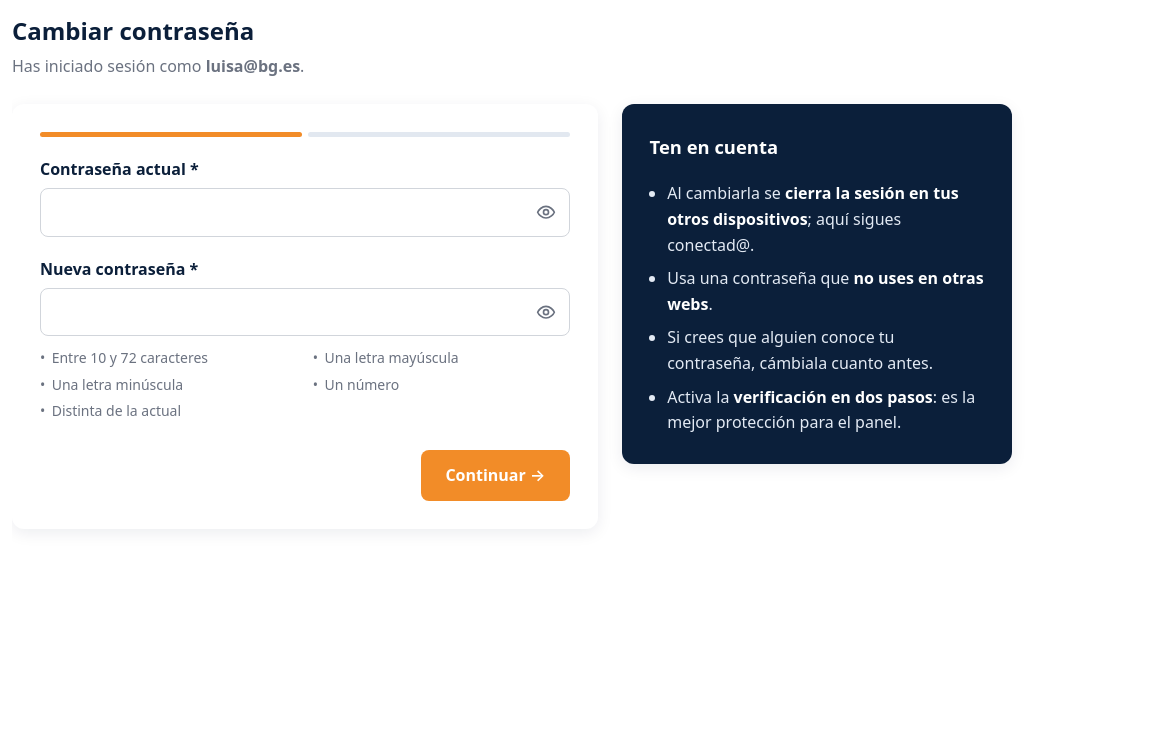
AdminAccountView › shows who is logged in and changes the password
Expected: the heading "Cambiar contraseña" is shown, [12,14,254,47]
Type "OldPass2026" into the password field with id "account-current".
click(305, 212); type("OldPass2026")  # box [40,188,570,237]
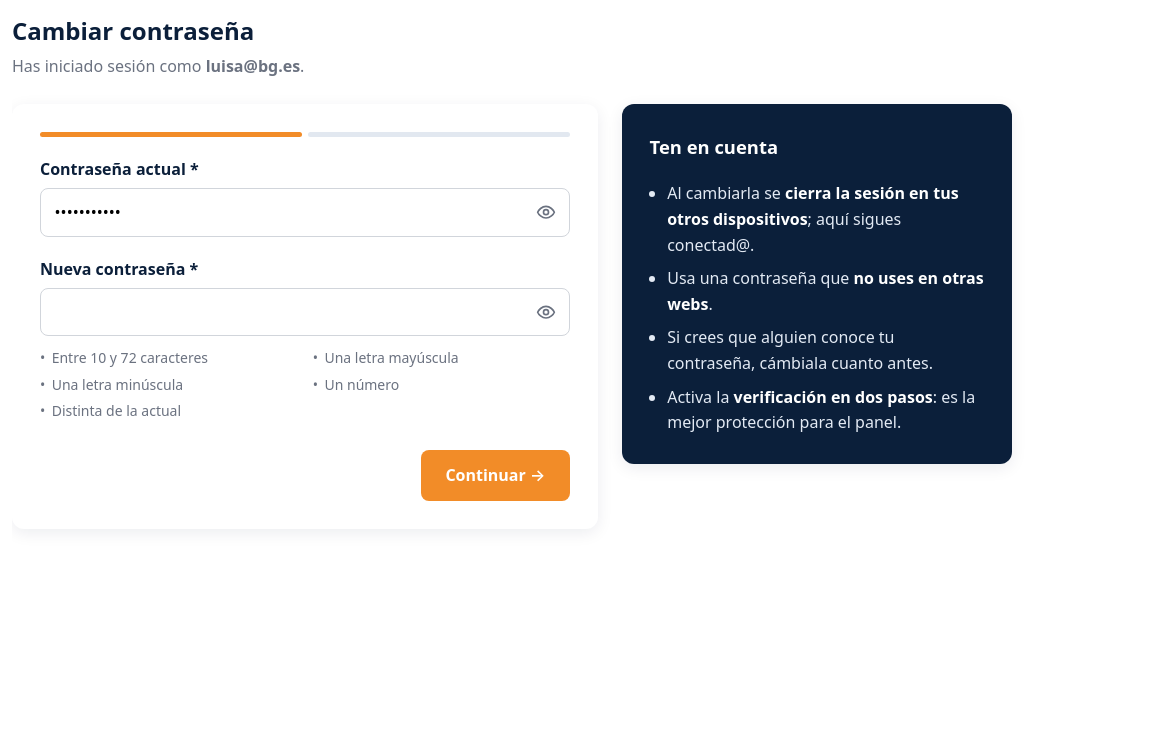
Type "NewPass2026" into the password field with id "account-new".
click(305, 312); type("NewPass2026")  # box [40,288,570,336]
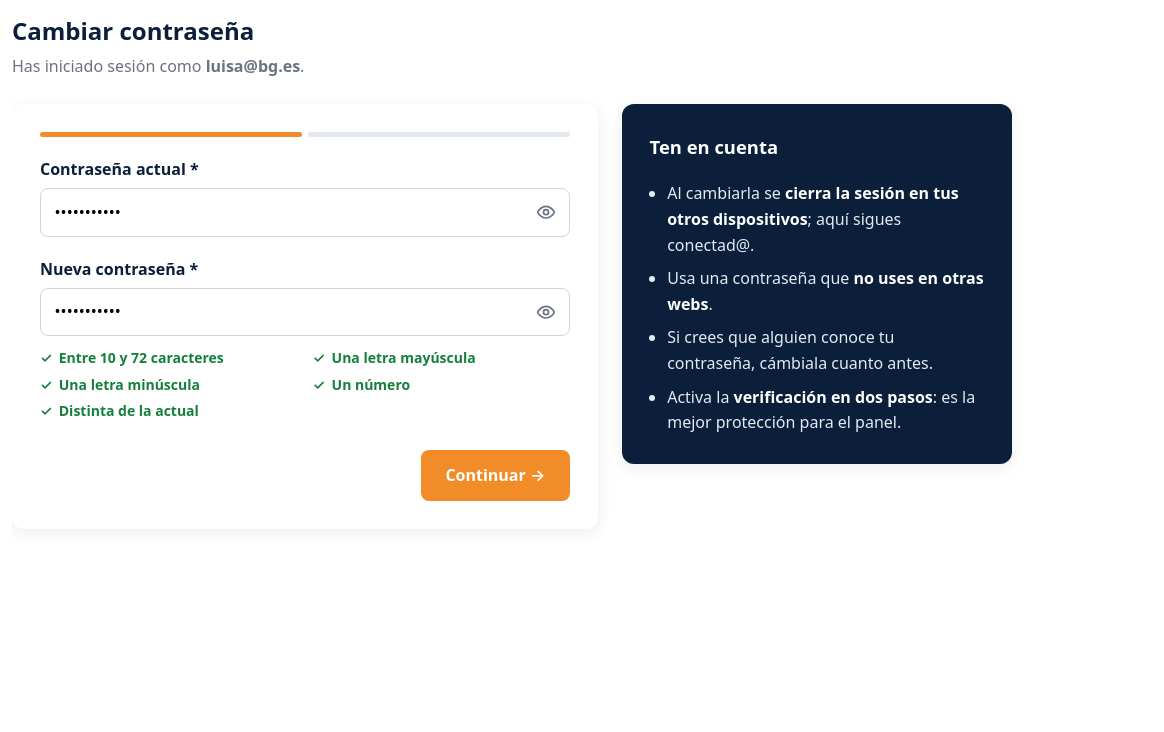
Submit the form, box [40,132,570,501]
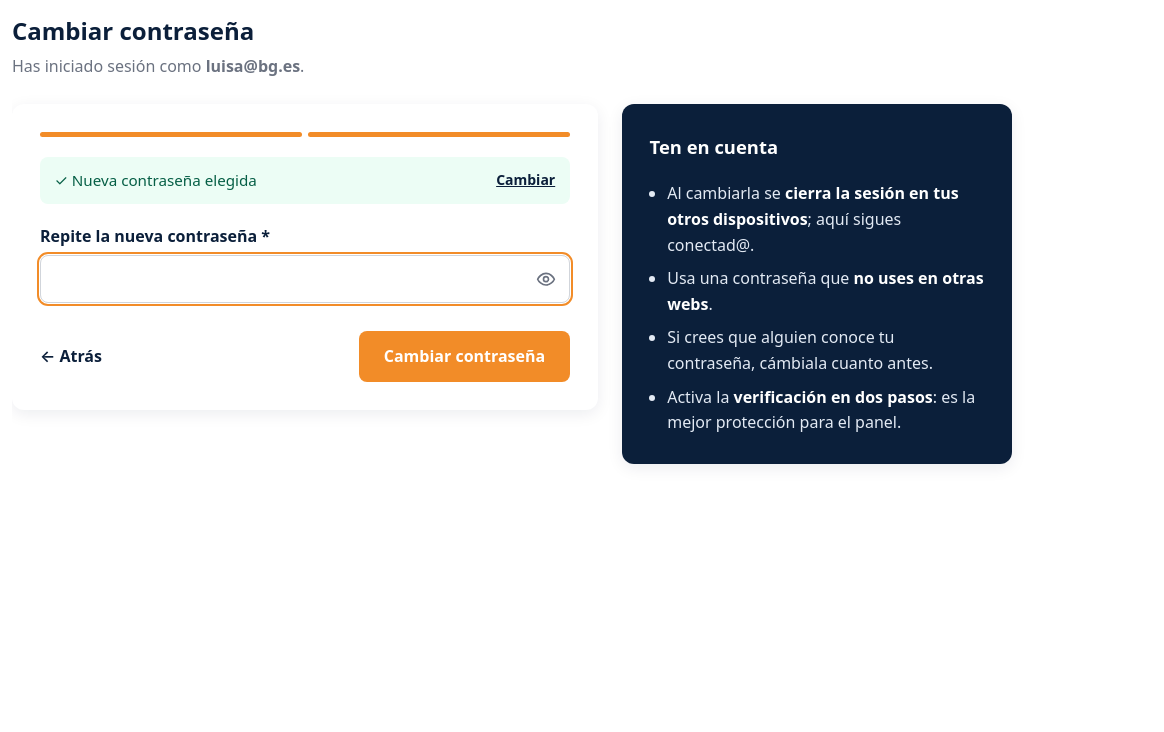
Type "NewPass2026" into the password field with id "account-confirm".
click(305, 279); type("NewPass2026")  # box [40,255,570,303]
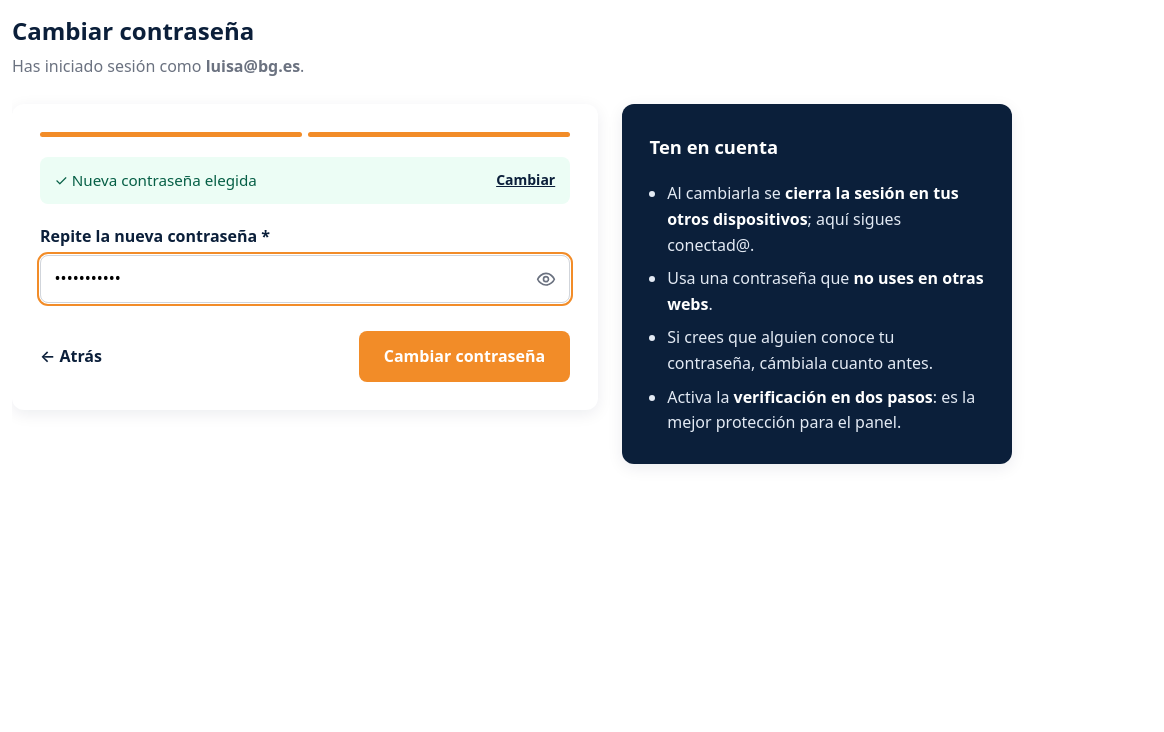
Submit the form, box [40,132,570,382]
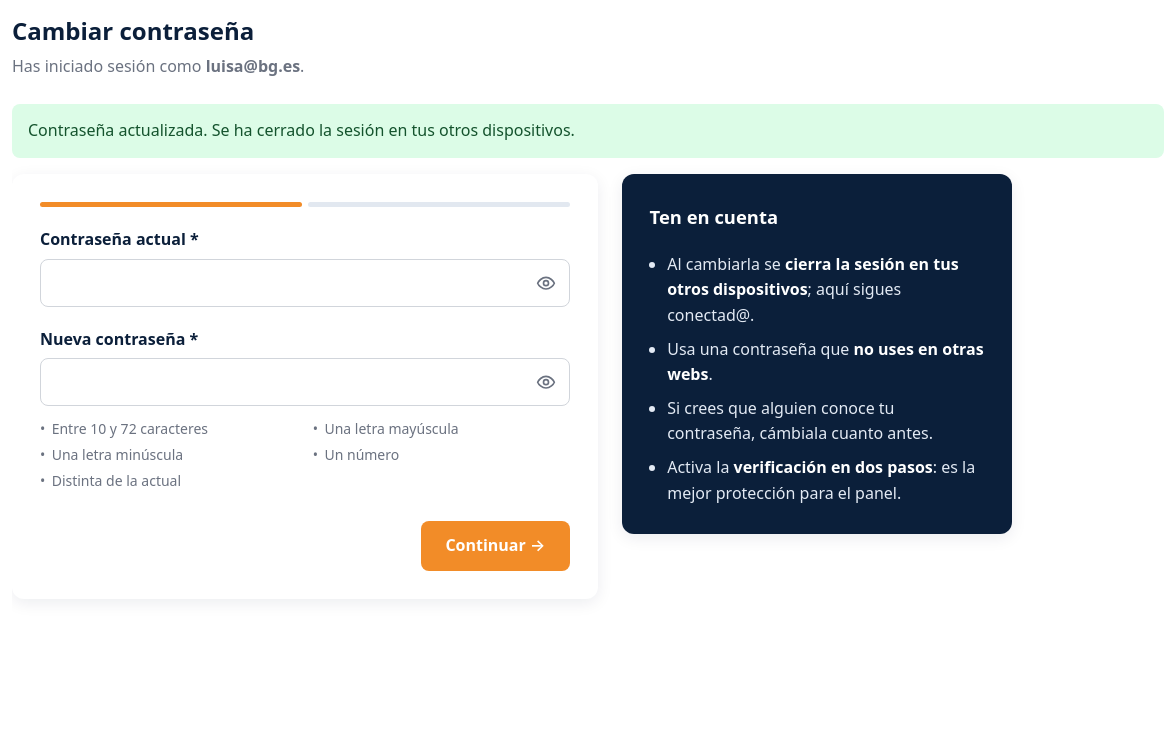
Result: the message "Contraseña actualizada. Se ha cerrado la sesión en tus otros dispositivos." is shown at [12,104,1163,158]
